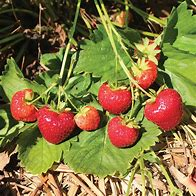Fresa: (144, 87, 185, 131), (37, 105, 77, 145), (98, 81, 133, 115), (107, 116, 139, 147), (132, 58, 158, 90), (75, 104, 101, 132)
